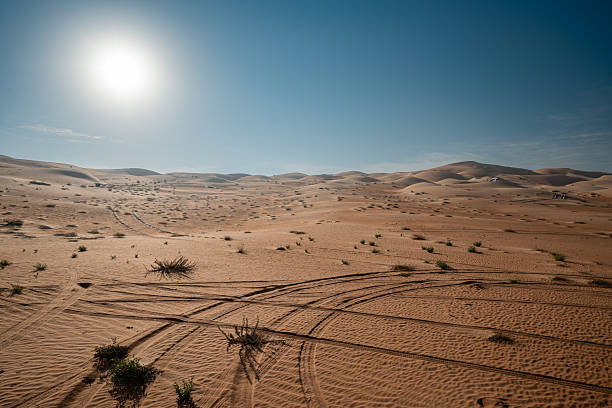vehicle_track: (81, 295, 611, 348), (260, 327, 611, 393), (114, 271, 392, 343), (0, 270, 79, 348), (15, 365, 90, 405), (403, 295, 611, 309), (198, 363, 254, 405), (109, 207, 157, 237), (132, 211, 173, 233)
